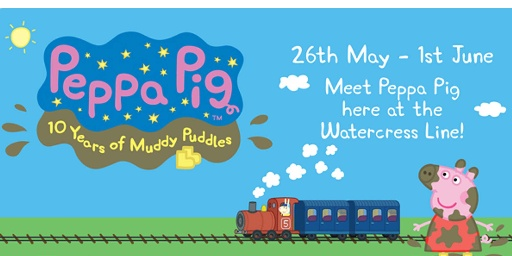Peppa: (411, 158, 497, 256)
